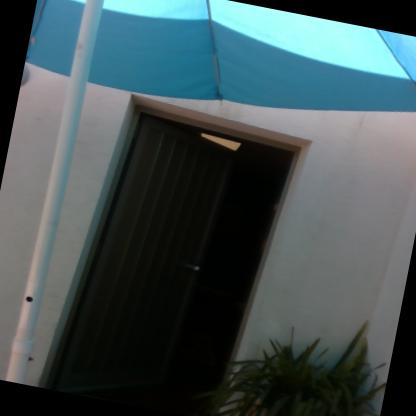semi: (29, 73, 331, 415)
